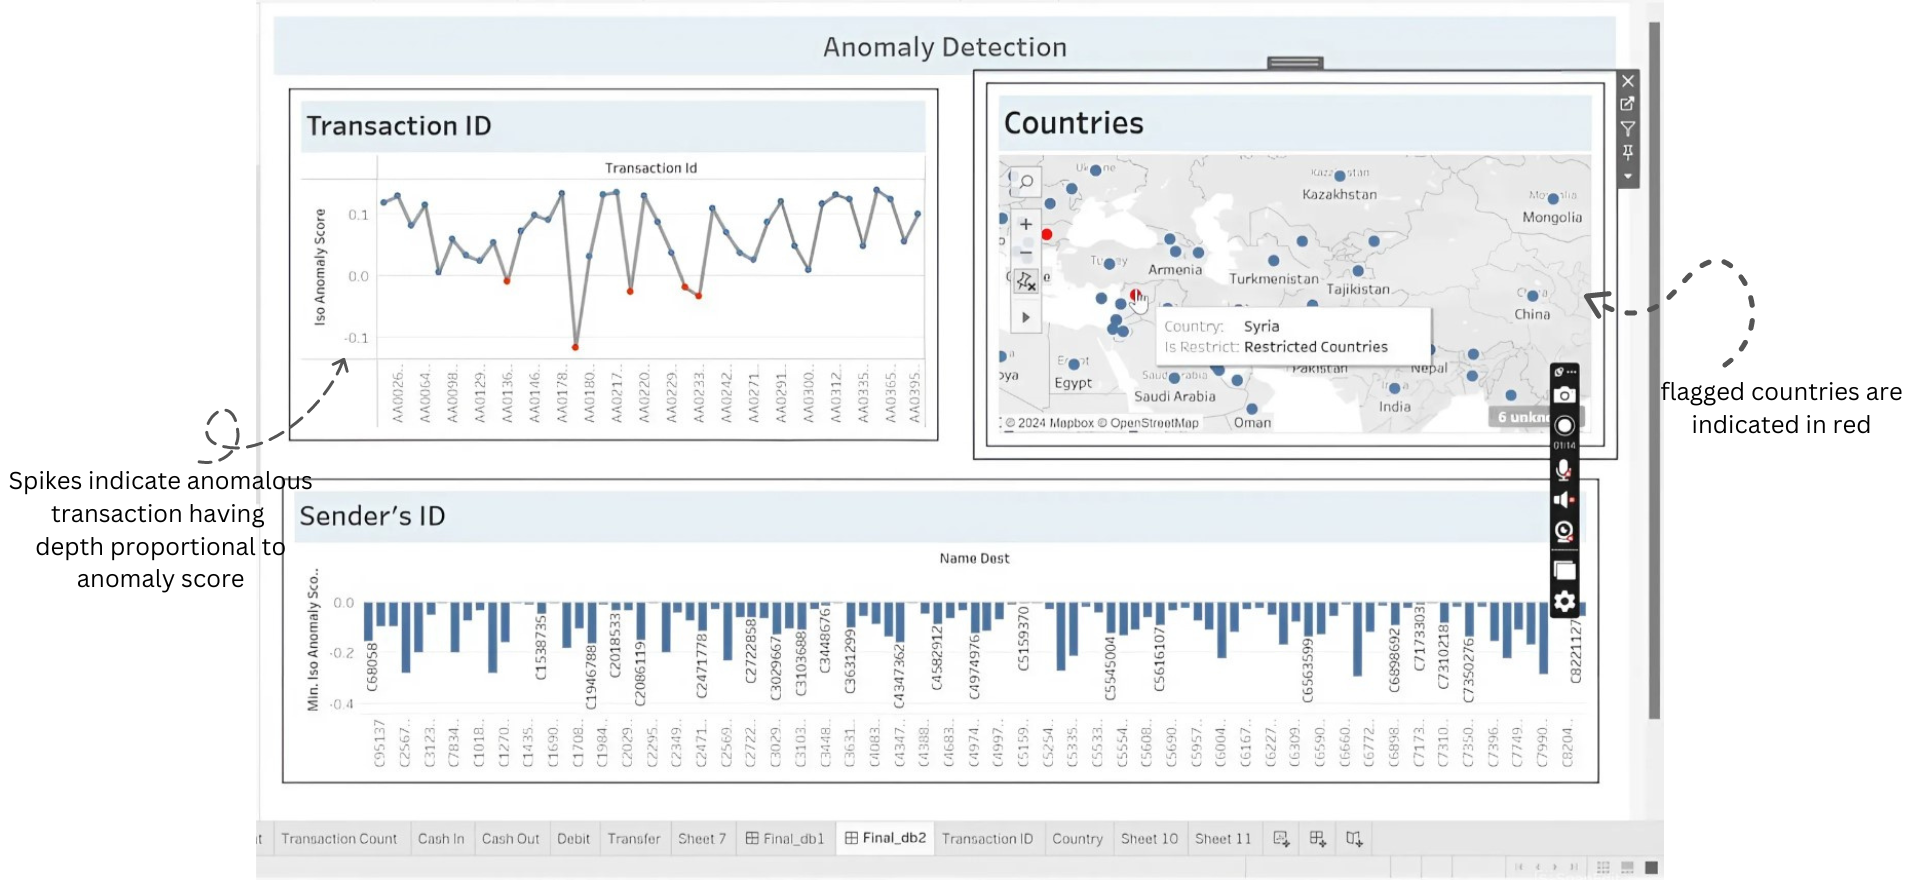

The page's visual inventory and layout, read from the dashboard file:
{"tool":"tableau","page":{"name":"Final_db2","canvas":[1200,800],"ordinal":1},"visuals":[{"type":"text","box":[8,8,1184,59]},{"type":"worksheet","title":"Country","mark":"Automatic","box":[626,60,562,339]},{"type":"worksheet","title":"Transaction ID","mark":"Automatic","rows":["iso_anomaly_score","iso_anomaly_score"],"cols":["transaction_id"],"box":[15,65,589,329]},{"type":"worksheet","title":"Sheet 10","mark":"Bar","rows":["iso_anomaly_score"],"cols":["nameDest"],"box":[9,407,1174,287]}]}

Visuals, with their boxes on the page's 1200x800 design canvas (x1, y1, x2, y2). These are canvas units, not pixel positions in the 1920x880 screenshot, which may show the page scaled, cropped or inside an application window:
text: box=[8, 8, 1192, 67]
"Country" worksheet: box=[626, 60, 1188, 399]
"Transaction ID" worksheet: box=[15, 65, 604, 394]
"Sheet 10" worksheet (Bar marks): box=[9, 407, 1183, 694]
